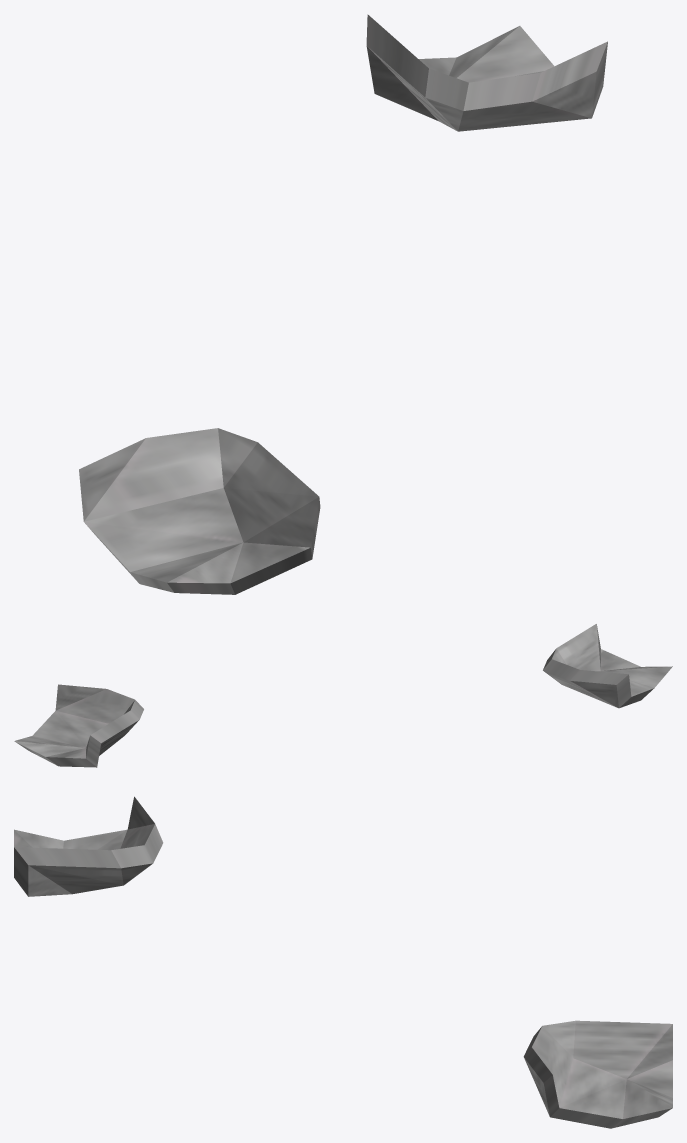
The model's file is InnerCornerHangingDouble_Col.gltf.
The picture shows the model from 3 angles, top to bottom: view 1: azimuth 30°, elevation 25°; view 2: azimuth 150°, elevation 25°; view 3: azimuth 270°, elevation 25°; orthographic projection. The views are drawn at different scales.
Parts seen in each view (by area): view 1: InnerCornerHangingDouble_Col; view 2: InnerCornerHangingDouble_Col; view 3: InnerCornerHangingDouble_Col.
Part boxes in pixels (x1,y1,x2,y2): InnerCornerHangingDouble_Col: (79,14,607,594); InnerCornerHangingDouble_Col: (14,624,672,767); InnerCornerHangingDouble_Col: (14,796,672,1128).
Size of the model in its own units: 5.23 by 0.5257 by 5.23.
1 material, 1 textured.
